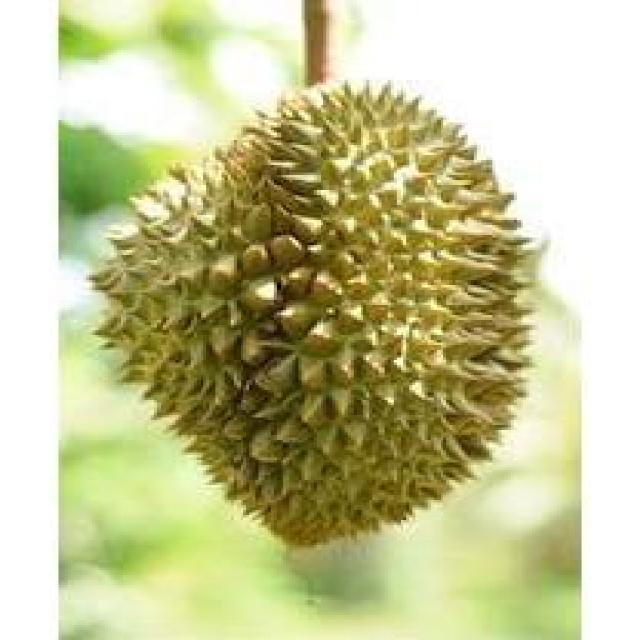fruit: (92, 240, 486, 585)
